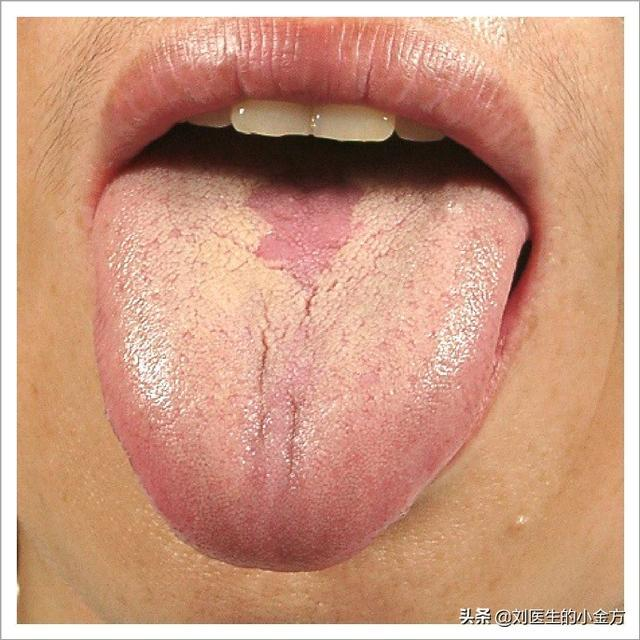tongue: (80, 162, 529, 579)
